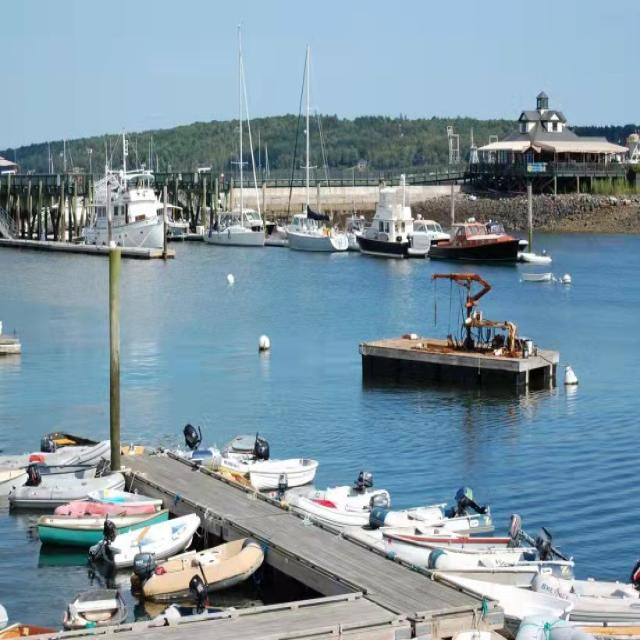houseboat: (93, 169, 159, 272), (426, 220, 523, 265), (356, 191, 414, 245), (282, 210, 348, 248), (211, 206, 268, 244)
